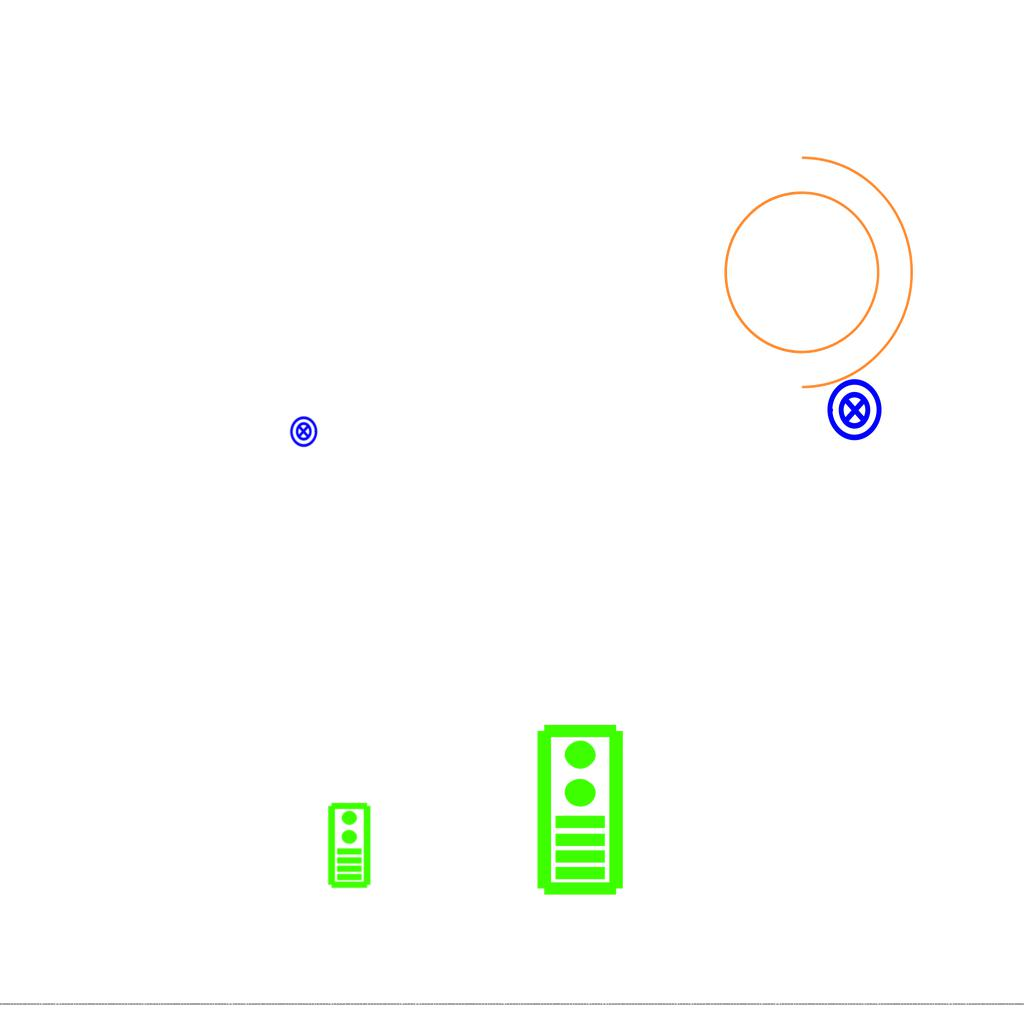Gegensprechanlage_mit_Video: (531, 721, 626, 897), (325, 801, 372, 889)
Scheinwerfer_fuer_Alarmbeleuchtung: (699, 134, 924, 398)
Taster_beleuchtet: (822, 377, 888, 443), (287, 415, 320, 448)
